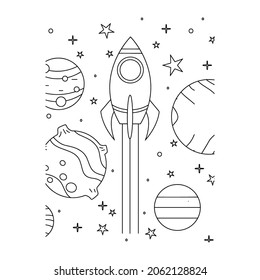roket: (100, 35, 162, 142)
